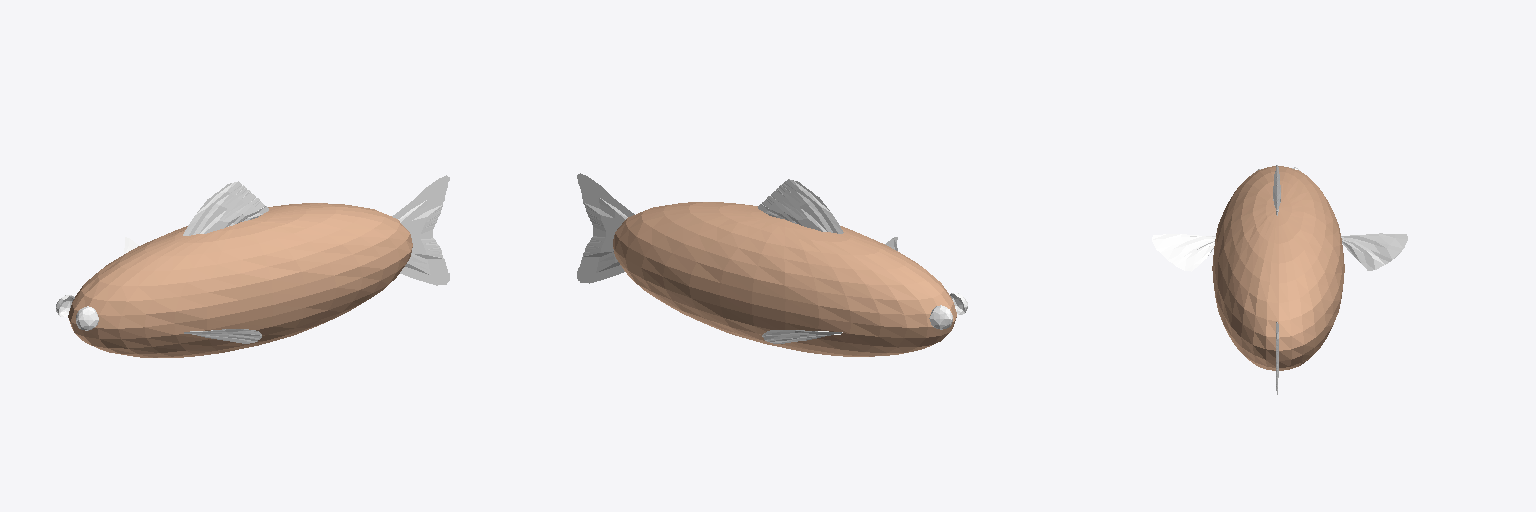
Rendered from fish3.obj.
3 views of the same model, side by side, from view 1: azimuth 30°, elevation 25°; view 2: azimuth 150°, elevation 25°; view 3: azimuth 270°, elevation 25° (orthographic).
Visible parts, largest first — view 1: Sphere001, object9, object2, object4; view 2: Sphere001, object9, object2, object5; view 3: Sphere001, object5, object4.
Boxes of the visible parts, x1=… form: Sphere001: x1=68, y1=203, x2=412, y2=357; object9: x1=392, y1=175, x2=449, y2=285; object2: x1=183, y1=181, x2=268, y2=235; object4: x1=184, y1=329, x2=261, y2=343; Sphere001: x1=613, y1=202, x2=956, y2=356; object9: x1=577, y1=173, x2=634, y2=283; object2: x1=758, y1=179, x2=843, y2=233; object5: x1=762, y1=330, x2=842, y2=343; Sphere001: x1=1212, y1=166, x2=1344, y2=370; object5: x1=1341, y1=233, x2=1407, y2=270; object4: x1=1152, y1=234, x2=1215, y2=271.
Size of the model in its own units: 3.08 by 1.23 by 1.78.